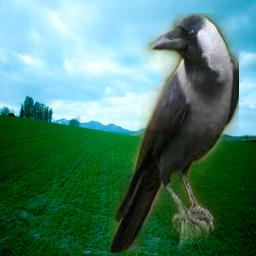Crow: (109, 13, 239, 253)
